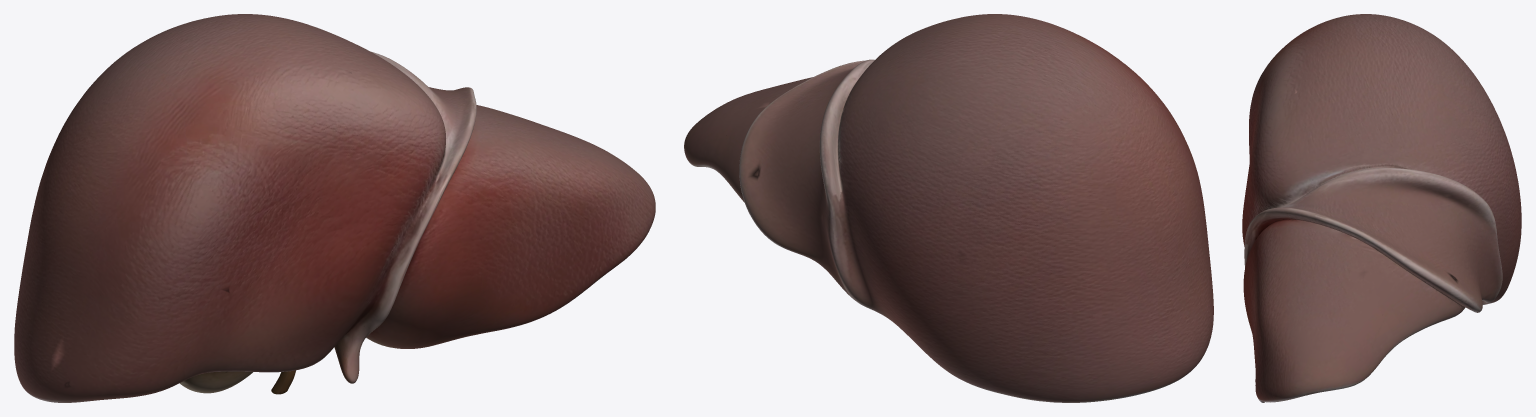
File: liver.glb
3 views of the same model, side by side, from view 1: azimuth 30°, elevation 25°; view 2: azimuth 150°, elevation 25°; view 3: azimuth 270°, elevation 25° (orthographic). The views are drawn at different scales.
Visible parts, largest first — view 1: Mesh_0; view 2: Mesh_0; view 3: Mesh_0.
Part boxes in pixels (bbox=[...]): Mesh_0: bbox=[14, 14, 655, 402]; Mesh_0: bbox=[684, 14, 1213, 402]; Mesh_0: bbox=[1242, 14, 1521, 402].
Size of the model in its own units: 1.1 by 0.6487 by 0.5299.
1 material, 1 textured.
